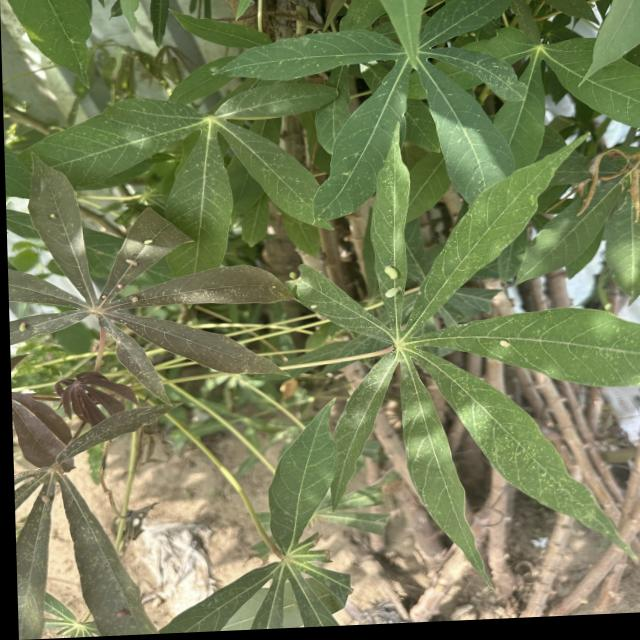Mosca: (378, 263, 404, 301), (111, 252, 153, 272), (31, 483, 57, 510), (487, 334, 520, 354), (285, 269, 309, 291), (108, 276, 128, 302), (40, 203, 59, 225), (15, 318, 34, 339), (142, 233, 160, 252), (307, 301, 320, 318)
